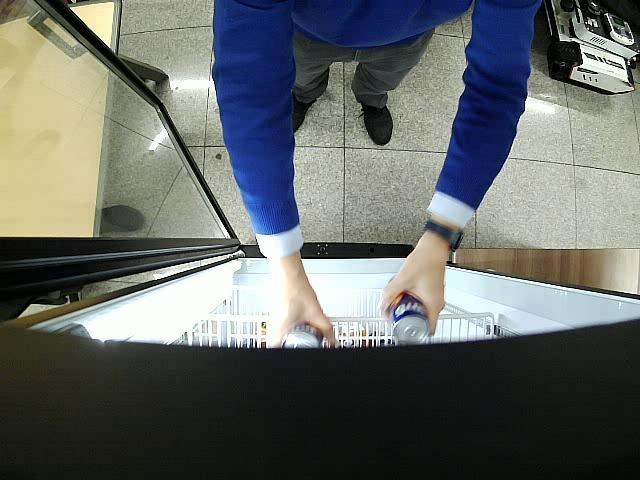16_hot6: (386, 290, 433, 344), (280, 322, 324, 348)
